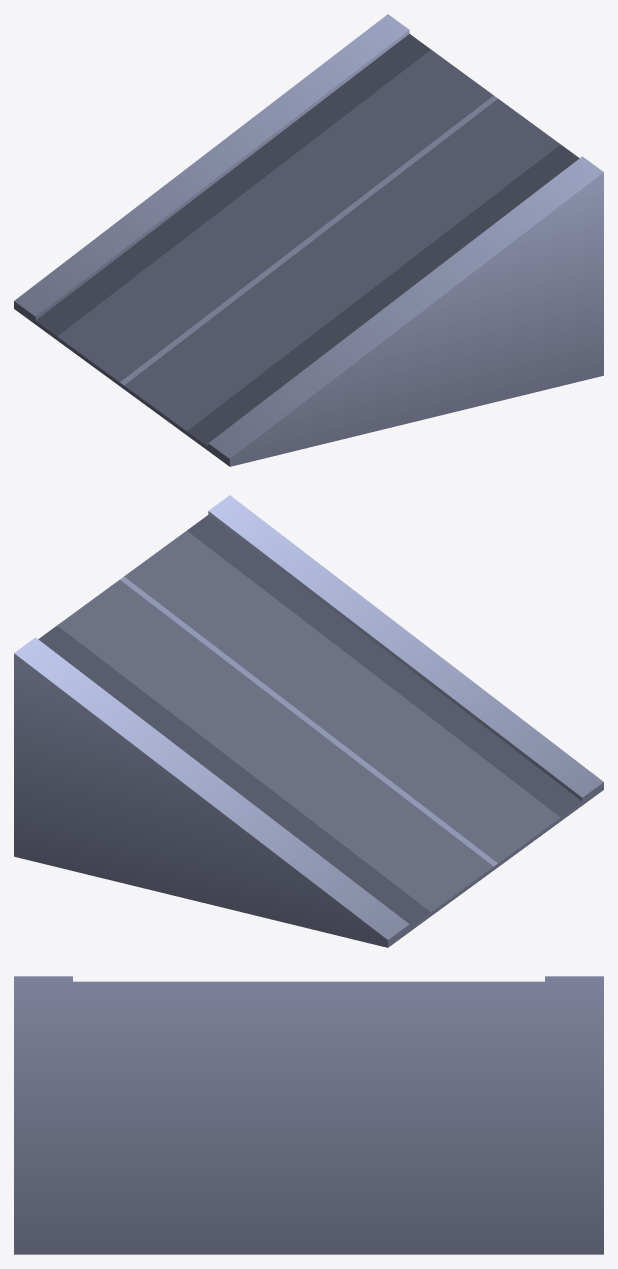
The model's file is road-slant-high.glb.
3 views of the same model, one above another, from view 1: azimuth 30°, elevation 25°; view 2: azimuth 150°, elevation 25°; view 3: azimuth 270°, elevation 25° (orthographic). The views are drawn at different scales.
Visible parts, largest first — view 1: road-slant-high; view 2: road-slant-high; view 3: road-slant-high.
Part boxes in pixels (x1,y1,x2,y2): road-slant-high: (14, 14, 603, 466); road-slant-high: (14, 495, 603, 947); road-slant-high: (14, 976, 603, 1254).
Size of the model in its own units: 1 by 0.52 by 1.
1 material, 1 textured.
